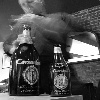beer: (12, 24, 43, 96)
